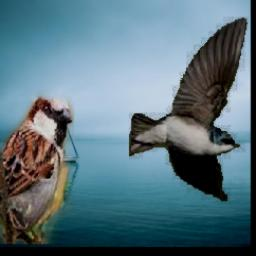Sparrow: (0, 90, 74, 244)
Swallow: (128, 18, 248, 202)
